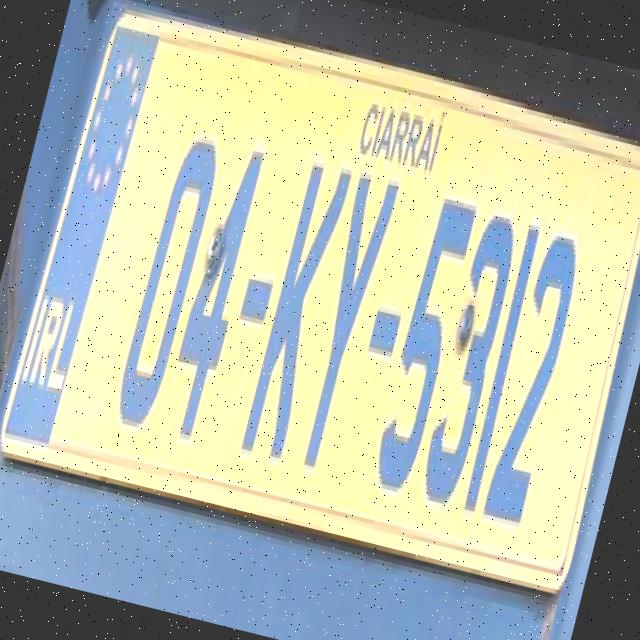EU: (0, 9, 640, 574)
Irlande: (0, 19, 167, 440)
